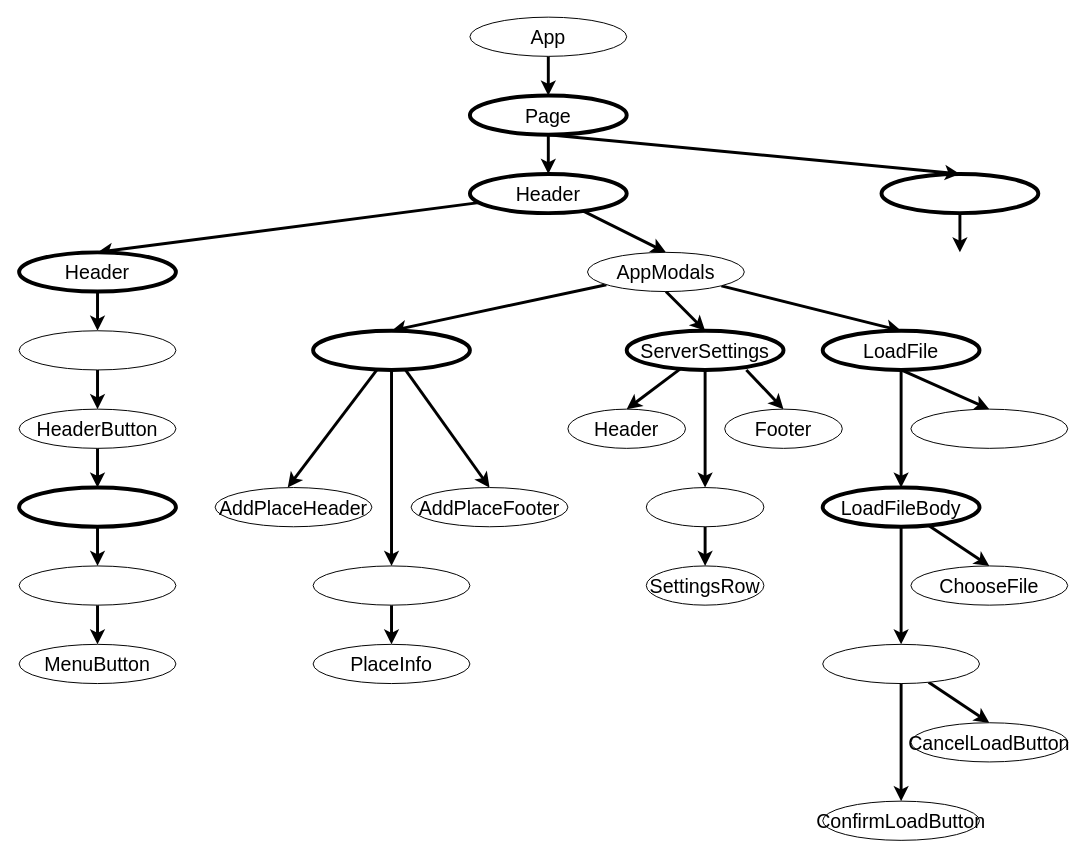
The diagram is 1087 pixels wide and 858 high, and some of its shapes have lost their labels. Each missing label, with the centre of its shape:
"AddPlace" belongs at (391,349).
"Body" belongs at (704,507).
"HeaderContents" belongs at (97,350).
"LoadFileFooter" belongs at (901,663).
"LoadFileHeader" belongs at (989,428).
"MainContentArea" belongs at (959,193).
"Menu" belongs at (97,506).
"MenuItems" belongs at (97,585).
"PlaceSearch" belongs at (391,585).
